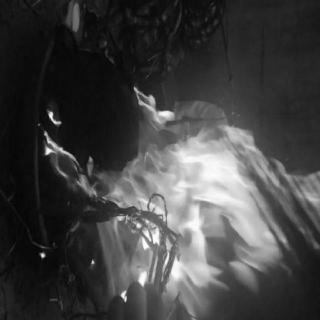Fire: (36, 77, 319, 311)
